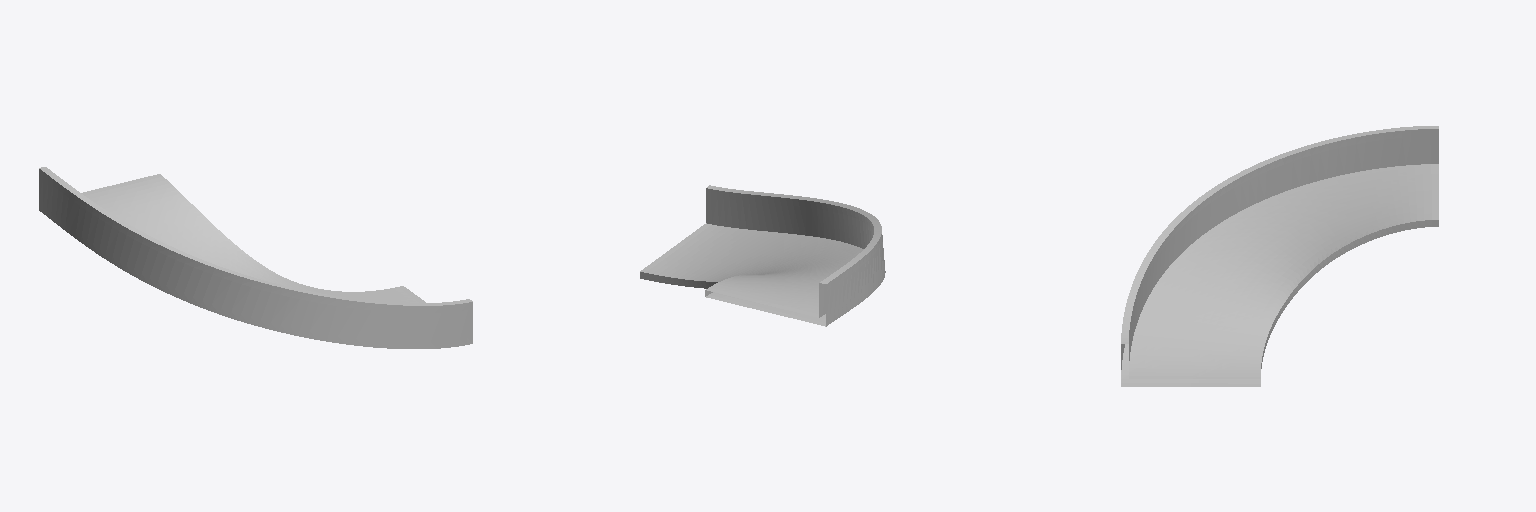
The model's file is DoubleTroubleBlenderCurve5.obj.
3 views of the same model, side by side, from view 1: azimuth 30°, elevation 25°; view 2: azimuth 150°, elevation 25°; view 3: azimuth 270°, elevation 25° (orthographic).
Parts seen in each view (by area): view 1: Cube.004_Cube.005; view 2: Cube.004_Cube.005; view 3: Cube.004_Cube.005.
Part boxes in pixels (bbox=[...]): Cube.004_Cube.005: bbox=[39, 167, 472, 348]; Cube.004_Cube.005: bbox=[640, 185, 885, 326]; Cube.004_Cube.005: bbox=[1121, 126, 1438, 386].
Bounding box in the file's own units: 20.5 × 9 × 20.5.